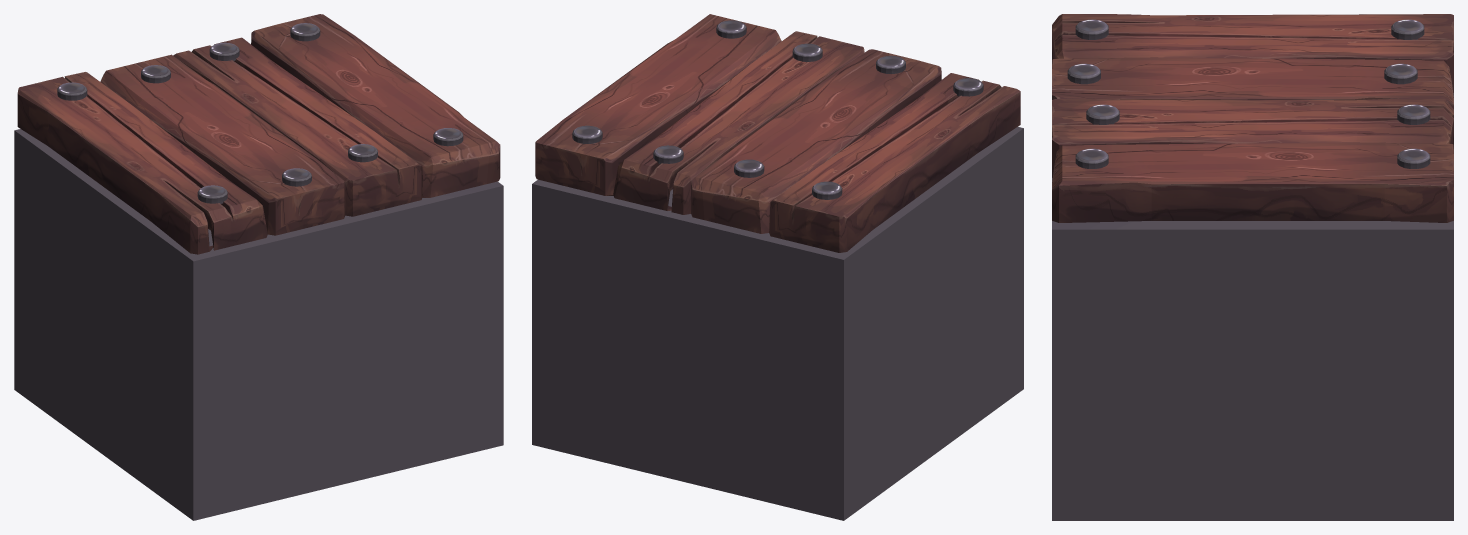
File: Plank.fbx
3 views of the same model, side by side, from view 1: azimuth 30°, elevation 25°; view 2: azimuth 150°, elevation 25°; view 3: azimuth 270°, elevation 25° (orthographic). The views are drawn at different scales.
Visible parts, largest first — view 1: Cube.013; view 2: Cube.013; view 3: Cube.013.
Part boxes in pixels (x1,y1,x2,y2): Cube.013: (14, 14, 503, 520); Cube.013: (532, 14, 1023, 520); Cube.013: (1052, 14, 1453, 520).
Size of the model in its own units: 100 by 94.85 by 100.
2 materials, 2 textured.
